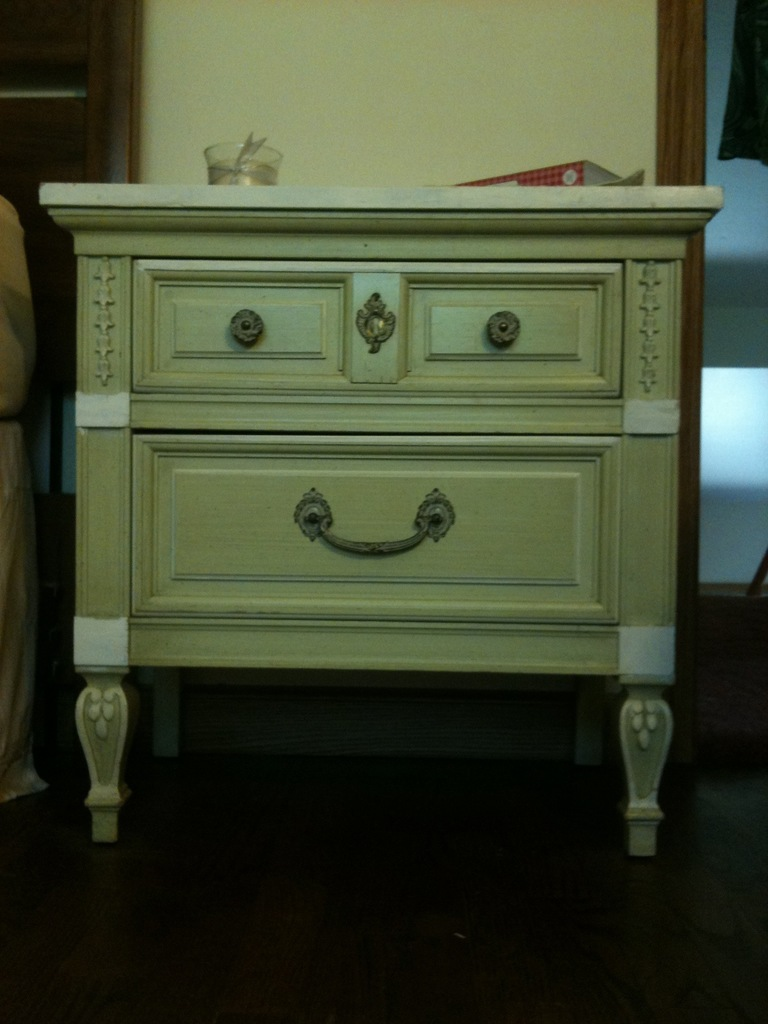cabinet door: (139, 437, 611, 609), (134, 272, 346, 377), (409, 286, 608, 380)
handle: (302, 489, 443, 565), (229, 309, 262, 353), (487, 306, 518, 351)
